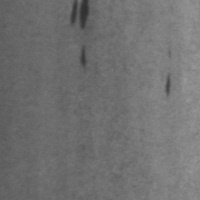inclusion: (67, 0, 94, 34), (160, 67, 177, 102), (76, 43, 92, 72)
